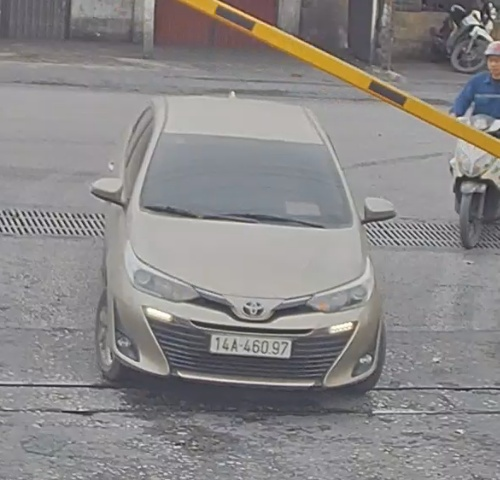vehicle plate: (207, 329, 305, 359)
